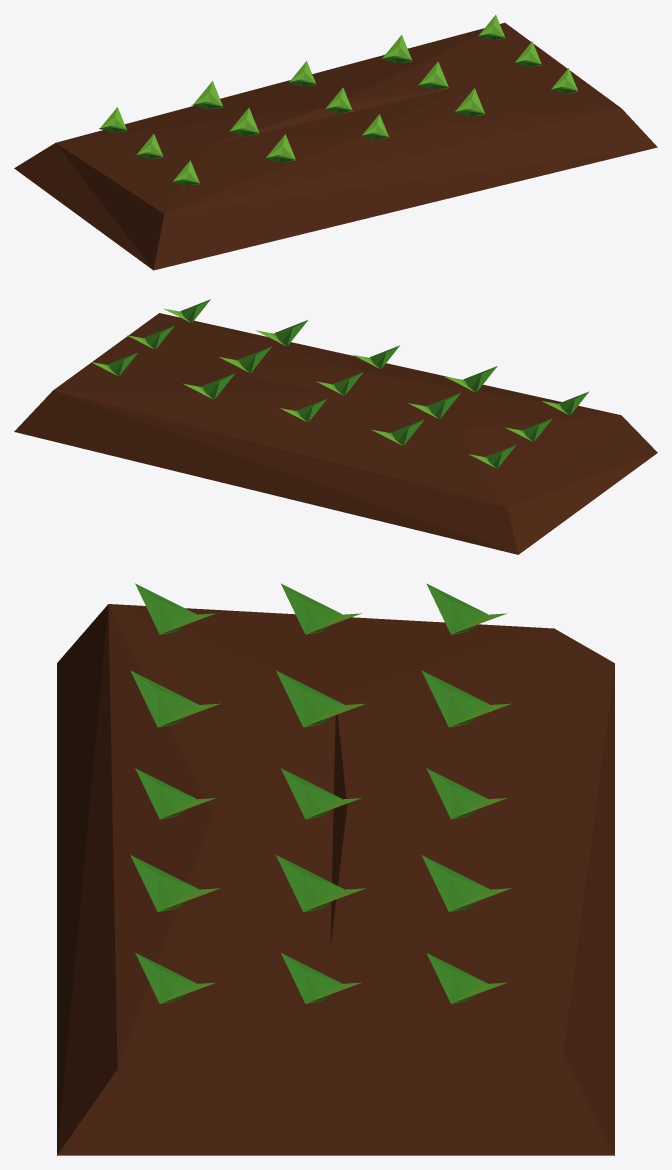
File: farm_bed_2x1_seedlings.obj
3 views of the same model, one above another, from view 1: azimuth 30°, elevation 25°; view 2: azimuth 150°, elevation 25°; view 3: azimuth 270°, elevation 25° (orthographic). The views are drawn at different scales.
Visible parts, largest first — view 1: soil; view 2: soil; view 3: soil, seedling_0_1_a, seedling_1_3_a, seedling_1_1_a, seedling_2_3_a, seedling_2_1_a, seedling_0_3_a, seedling_2_4_a, seedling_1_0_a, seedling_2_2_a, seedling_0_4_a, seedling_0_2_a (+4 smaller).
Part boxes in pixels (x1=…): soil: x1=14, y1=22, x2=657, y2=270; soil: x1=14, y1=313, x2=657, y2=554; soil: x1=57, y1=604, x2=614, y2=1155; seedling_0_1_a: x1=421, y1=670, x2=489, y2=727; seedling_1_3_a: x1=276, y1=855, x2=343, y2=911; seedling_1_1_a: x1=276, y1=670, x2=344, y2=727; seedling_2_3_a: x1=130, y1=855, x2=198, y2=911; seedling_2_1_a: x1=130, y1=670, x2=198, y2=727; seedling_0_3_a: x1=421, y1=855, x2=489, y2=911; seedling_2_4_a: x1=135, y1=952, x2=196, y2=1003; seedling_1_0_a: x1=281, y1=583, x2=341, y2=634; seedling_2_2_a: x1=135, y1=768, x2=196, y2=819; seedling_0_4_a: x1=426, y1=953, x2=487, y2=1003; seedling_0_2_a: x1=426, y1=768, x2=487, y2=819.
Bounding box in the file's own units: 1.92 × 0.2393 × 0.92.
